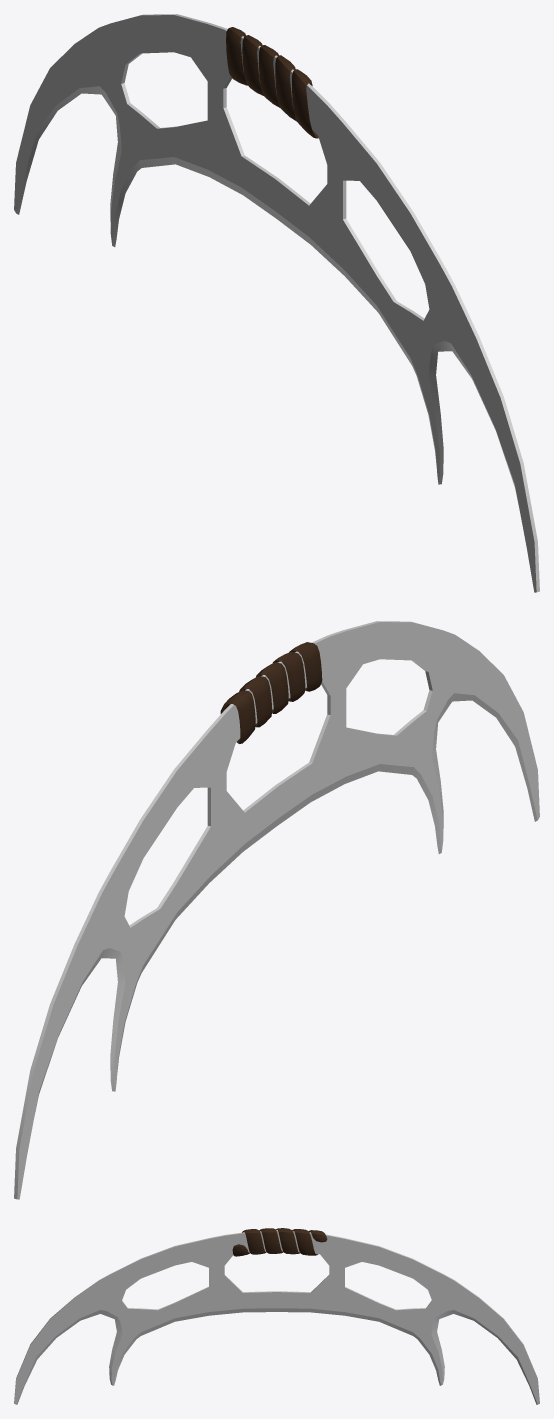
The model's file is Bat'leth.fbx.
The picture shows the model from 3 angles, top to bottom: view 1: azimuth 30°, elevation 25°; view 2: azimuth 150°, elevation 25°; view 3: azimuth 270°, elevation 25°; orthographic projection. The views are drawn at different scales.
Parts seen in each view (by area): view 1: MainSword, Leather; view 2: MainSword, Leather; view 3: MainSword, Leather.
Boxes of the visible parts, x1=… form: MainSword: x1=14, y1=14, x2=539, y2=592; Leather: x1=226, y1=27, x2=318, y2=138; MainSword: x1=14, y1=621, x2=539, y2=1199; Leather: x1=220, y1=642, x2=322, y2=743; MainSword: x1=14, y1=1230, x2=539, y2=1404; Leather: x1=232, y1=1228, x2=327, y2=1256.
Bounding box in the file's own units: 9.9 × 176 × 475.
